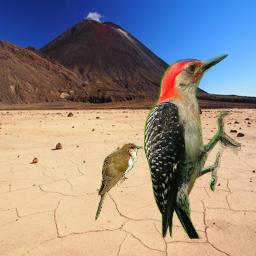Cuckoo: (95, 142, 143, 222)
Woodpecker: (144, 54, 242, 239)
